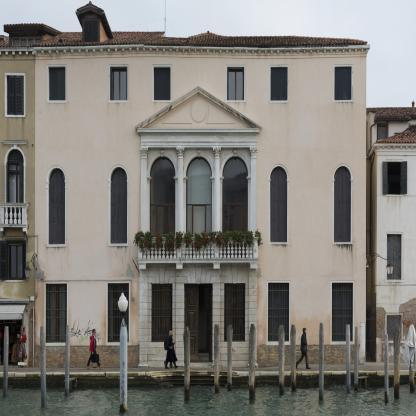Balcony: (136, 237, 259, 263)
Building Outline: (33, 1, 370, 367)
Cornice: (135, 86, 262, 132)
Deco: (233, 148, 237, 157), (160, 149, 164, 158), (198, 148, 201, 158)
Door: (184, 283, 212, 366), (222, 205, 248, 259), (186, 205, 212, 259), (150, 205, 175, 259)
Facade: (33, 1, 371, 367)
Floor: (36, 132, 367, 264)
Floor Slab: (35, 127, 366, 133), (35, 259, 366, 265)
Ground Floor: (36, 264, 367, 367)
Molding: (33, 44, 370, 56)
Pillar: (138, 265, 149, 368), (248, 264, 258, 367), (176, 147, 185, 258), (249, 147, 258, 258), (140, 147, 148, 258), (213, 147, 221, 258)
Roof: (33, 31, 368, 48)
Top Floor: (36, 54, 367, 132)
Window: (110, 167, 127, 244), (334, 166, 351, 242), (48, 168, 65, 244), (270, 166, 287, 242), (222, 156, 248, 204), (186, 156, 212, 204), (108, 284, 129, 343), (46, 284, 67, 343), (332, 283, 353, 342), (268, 283, 289, 342), (224, 284, 245, 342), (150, 156, 175, 204), (152, 284, 172, 342), (335, 67, 352, 100), (49, 67, 66, 100), (111, 67, 128, 100), (154, 67, 171, 100), (227, 67, 244, 100), (271, 67, 288, 100)
